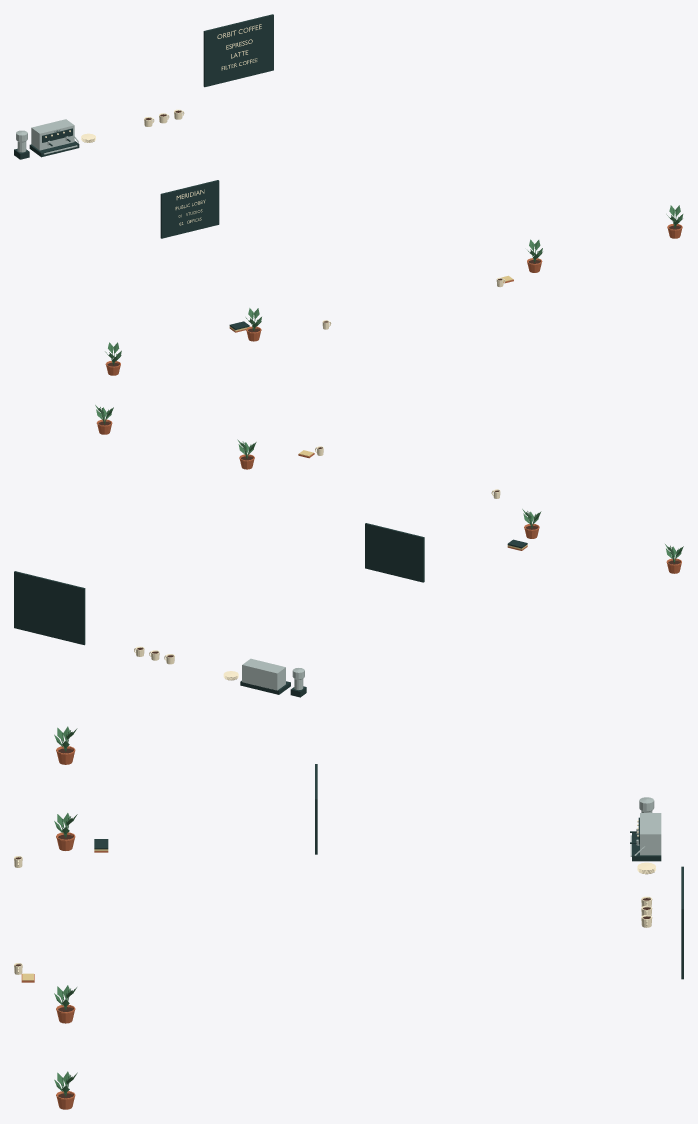
Rendered from room-dressing.glb.
3 views of the same model, one above another, from view 1: azimuth 30°, elevation 25°; view 2: azimuth 150°, elevation 25°; view 3: azimuth 270°, elevation 25° (orthographic). The views are drawn at different scales.
Visible parts, largest first — view 1: cafe_room_dressing, lobby_room_dressing; view 2: cafe_room_dressing, lobby_room_dressing; view 3: cafe_room_dressing, lobby_room_dressing.
Part boxes in pixels (left/top/right/bottom): cafe_room_dressing: left=14, top=14, right=683, bottom=375; lobby_room_dressing: left=160, top=180, right=542, bottom=341; cafe_room_dressing: left=14, top=405, right=683, bottom=697; lobby_room_dressing: left=237, top=439, right=541, bottom=582; cafe_room_dressing: left=14, top=726, right=683, bottom=1109; lobby_room_dressing: left=54, top=764, right=317, bottom=1023.
Bounding box in the file's own units: 21.26 × 2.83 × 16.95.
